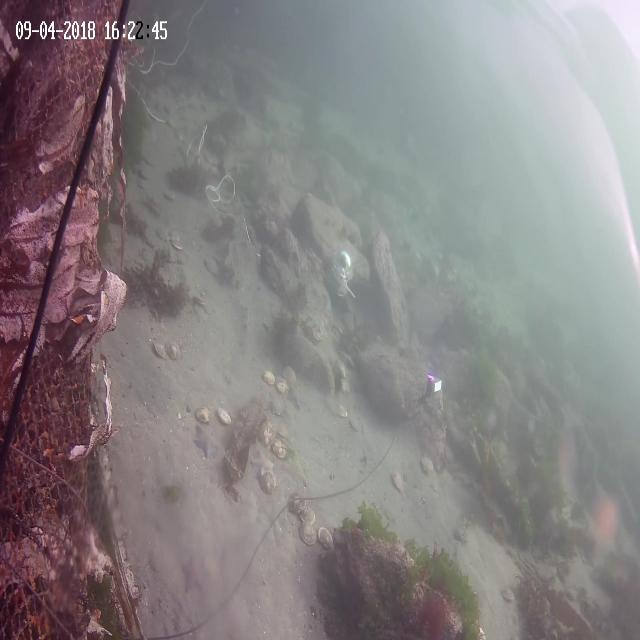scallop: (256, 414, 280, 448), (317, 522, 336, 554), (194, 402, 214, 428), (216, 402, 234, 430), (452, 521, 470, 547), (418, 452, 436, 477), (299, 501, 317, 526), (390, 468, 406, 496), (288, 491, 306, 514), (166, 336, 182, 361), (150, 336, 168, 358), (298, 522, 315, 545), (501, 582, 517, 606), (204, 254, 221, 276), (171, 228, 185, 252), (276, 373, 290, 396), (282, 362, 296, 383), (262, 367, 276, 386), (158, 224, 171, 242)
starfish: (586, 491, 629, 563), (553, 424, 584, 508), (180, 555, 208, 595), (193, 424, 217, 460), (252, 450, 272, 482), (284, 382, 304, 410)
